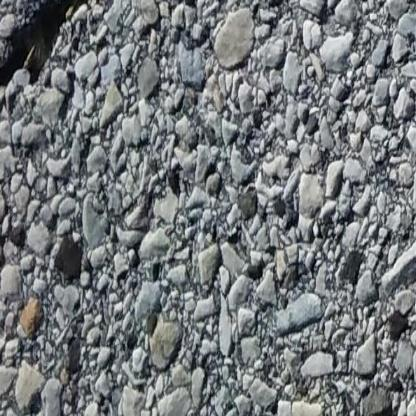Cracks: (0, 0, 123, 93)
